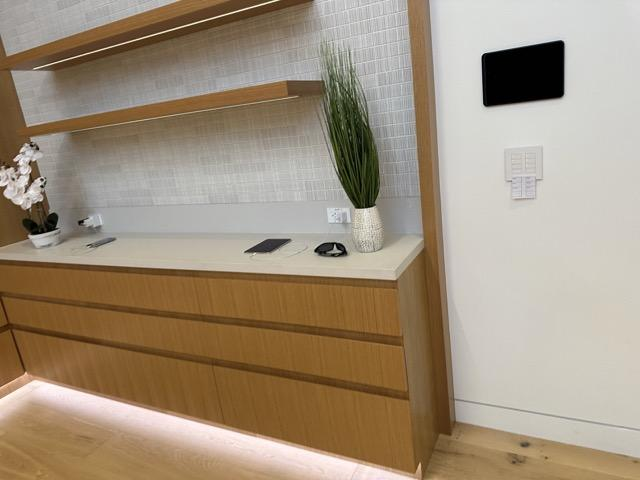Sunglasses: (315, 241, 348, 258)
